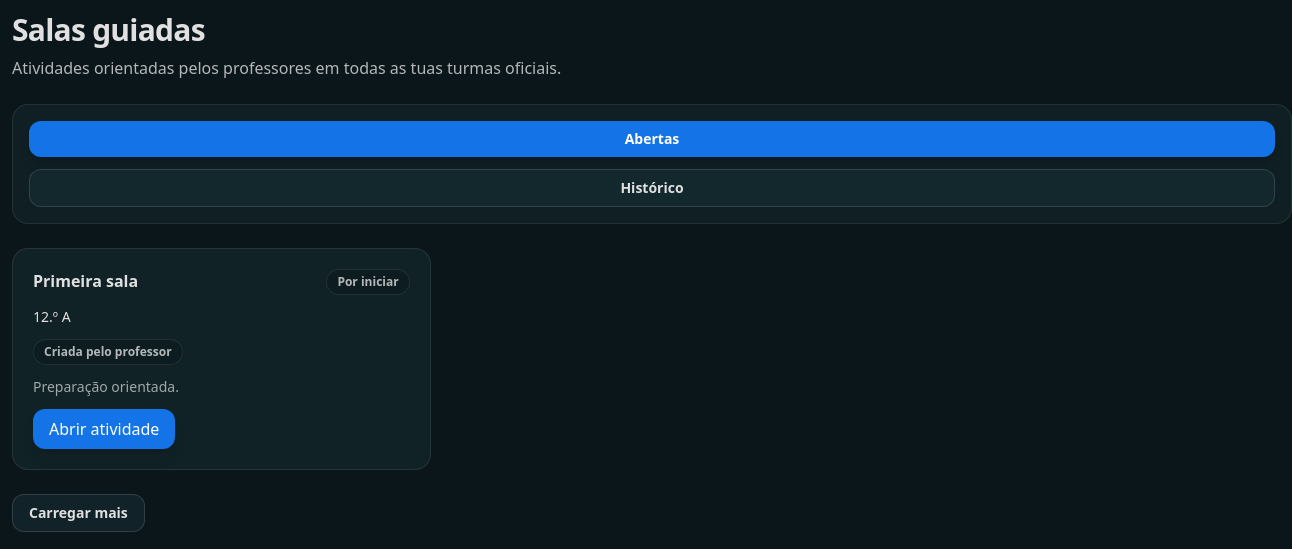
Scenario: StudentGuidedStudyRoomsPage › envia classId em todas as páginas em vez de filtrar depois do cursor
Check: the heading "Primeira sala" is shown, box [33,269,138,293]
Check: the text "Criada pelo professor" is shown, box [33,339,183,365]
Click the button "Carregar mais" at (78, 513), box [12,494,145,532]
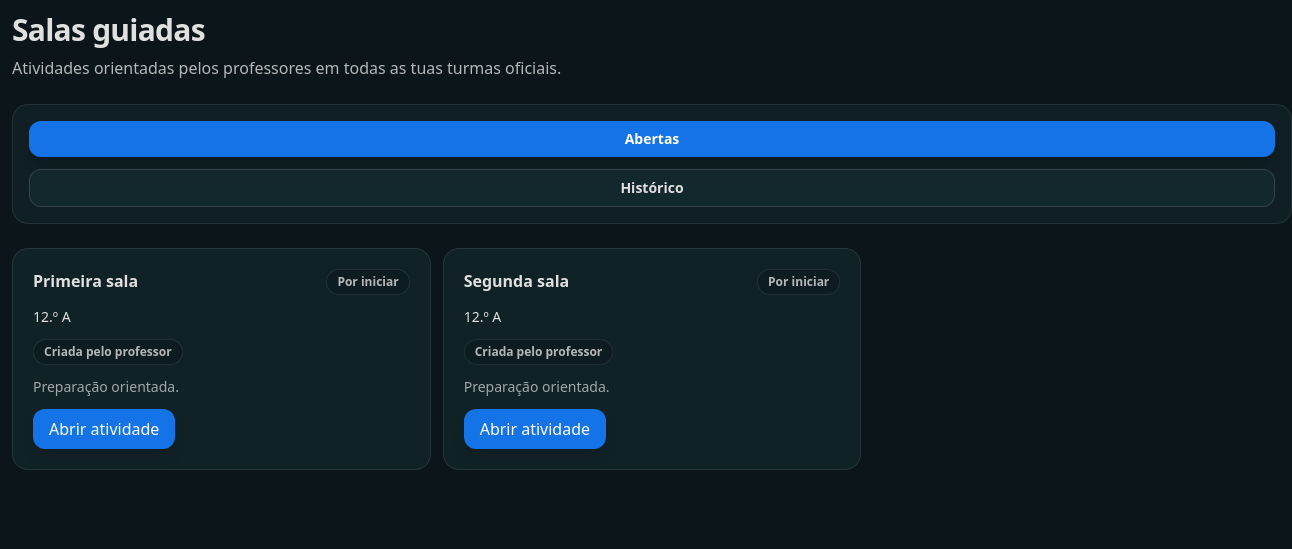
Check: the heading "Segunda sala" is shown, box [464,269,569,293]
